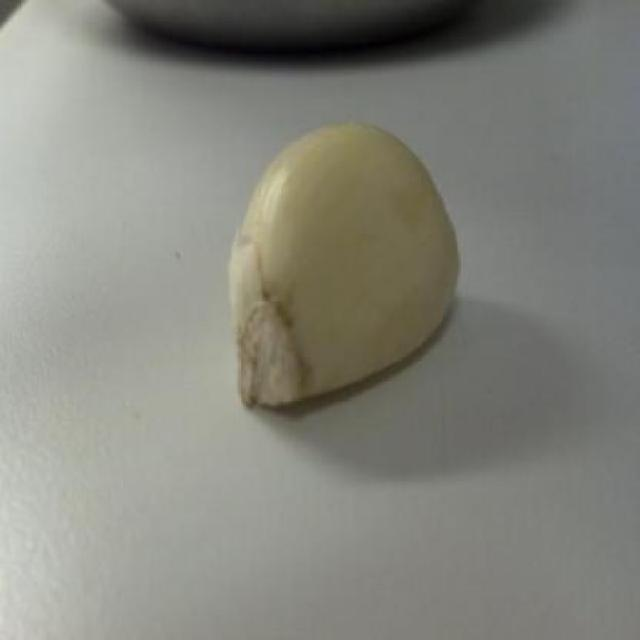garlic: (224, 121, 471, 414)
